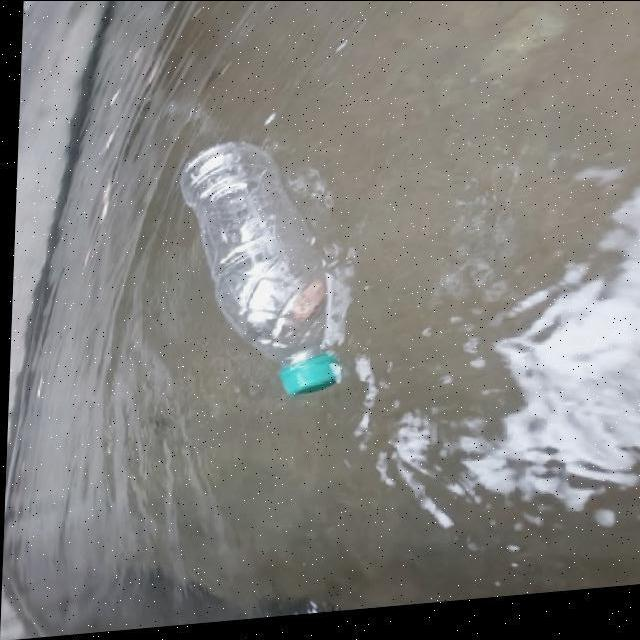Bottle: (174, 131, 346, 405)
